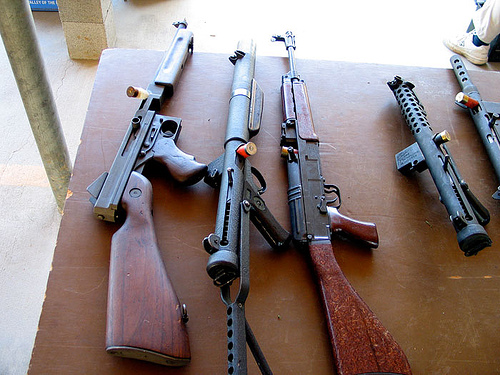rifle: (274, 25, 384, 371), (94, 20, 205, 361), (207, 25, 275, 366), (383, 77, 485, 277)
